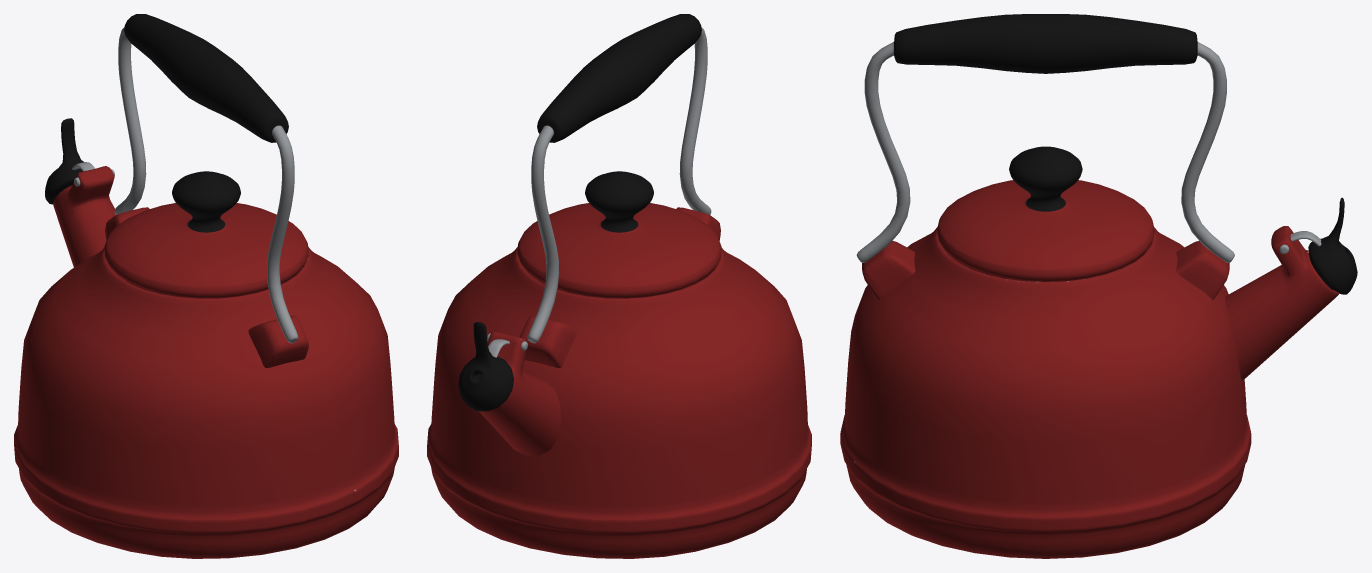
File: kettle_vintage.glb
The picture shows the model from 3 angles, left to right: view 1: azimuth 30°, elevation 25°; view 2: azimuth 150°, elevation 25°; view 3: azimuth 270°, elevation 25°; orthographic projection. The views are drawn at different scales.
Parts seen in each view (by area): view 1: Body, Hat, Handle1, Nose, Handle2, Sphere; view 2: Body, Hat, Handle1, Nose, Sphere, Handle2; view 3: Body, Handle1, Hat, Nose, Handle2, Sphere.
Part boxes in pixels (x1=…): Body: x1=14, y1=247, x2=398, y2=558; Hat: x1=104, y1=171, x2=308, y2=298; Handle1: x1=114, y1=14, x2=298, y2=343; Nose: x1=53, y1=166, x2=125, y2=280; Handle2: x1=105, y1=207, x2=308, y2=367; Sphere: x1=45, y1=118, x2=83, y2=204; Body: x1=427, y1=247, x2=811, y2=558; Hat: x1=517, y1=171, x2=721, y2=298; Handle1: x1=527, y1=14, x2=711, y2=343; Nose: x1=479, y1=331, x2=560, y2=455; Sphere: x1=458, y1=322, x2=513, y2=411; Handle2: x1=519, y1=207, x2=720, y2=367; Body: x1=840, y1=227, x2=1251, y2=558; Handle1: x1=856, y1=14, x2=1234, y2=262; Hat: x1=936, y1=146, x2=1154, y2=281; Nose: x1=1225, y1=226, x2=1339, y2=380; Handle2: x1=862, y1=241, x2=1229, y2=299; Sphere: x1=1308, y1=197, x2=1357, y2=294.
Bounding box in the file's own units: 0.3032 × 0.3796 × 0.3816.
3 materials, 3 textured.
